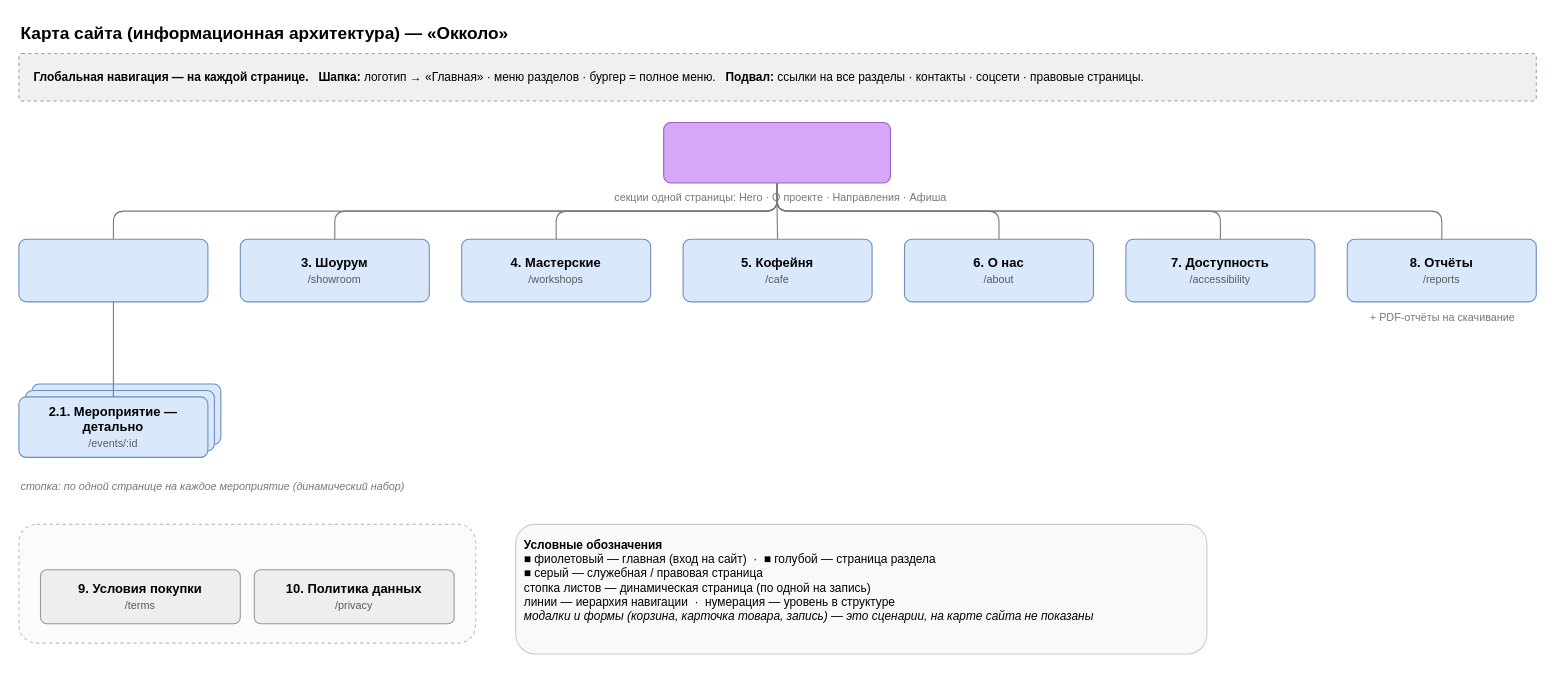
The diagram is 1555 pixels wide and 673 high, and some of its shapes have lost their labels. The box of each missing label's shape, as (x1, y1, x2, y2) in pixels:
1. Главная /: (663, 122, 890, 183)
2. Мероприятия /events: (18, 238, 208, 302)
Служебные / правовые страницы — доступ из подвала (на всех страницах): (18, 523, 476, 643)
